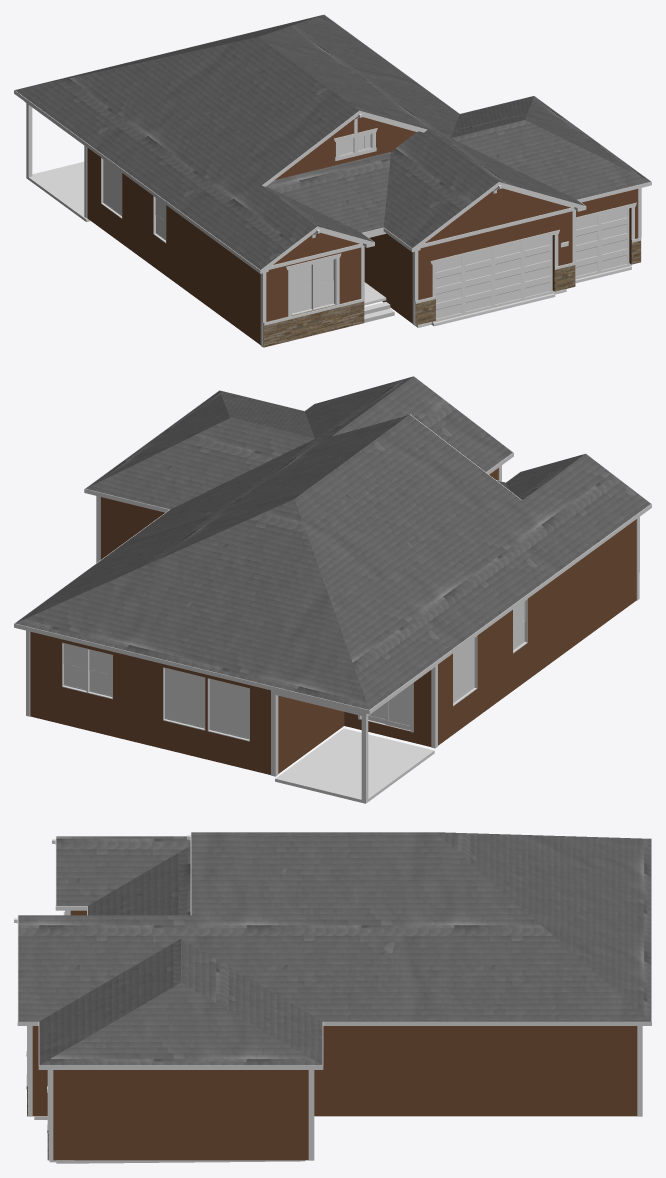
The model's file is 140-1584-dm-craftsman.glb.
3 views of the same model, one above another, from view 1: azimuth 30°, elevation 25°; view 2: azimuth 150°, elevation 25°; view 3: azimuth 270°, elevation 25° (orthographic). The views are drawn at different scales.
Visible parts, largest first — view 1: Basic Roof Wood Rafter 4" - Asphalt Shingle - Insulated_13c9, Basic Roof Wood Rafter 4" - Asphalt Shingle - Insulated_fc55, Basic Roof Wood Rafter 4" - Asphalt Shingle - Insulated_f22a, Basic Wall BSB Exterior - Stud_5.5" - Sheathing_0.5" - _ee27, Craftsman - BSB Exterior - Overhead Garage Door - Clopa_c83a, Basic Roof Wood Rafter 4" - Asphalt Shingle - Insulated_73b4, Basic Roof Wood Rafter 4" - Asphalt Shingle - Insulated_5227, Fascia Fascia-Flat 1x6 w/12" Soffit Bd [4406295], Basic Wall BSB Exterior - Stud_3.5" - Sheathing_0.5" - _6c46, Craftsman - BSB Exterior - Overhead Garage Door - Clopa_799e, Basic Wall BSB Exterior - Stud_5.5" - Sheathing_0.5" - _47e0, Basic Wall BSB Exterior - Stud_3.5" - Sheathing_0.5" - _949f (+22 smaller); view 2: Basic Roof Wood Rafter 4" - Asphalt Shingle - Insulated_13c9, Basic Wall BSB Exterior - Stud_5.5" - Sheathing_0.5" - _ff8a, Basic Roof Wood Rafter 4" - Asphalt Shingle - Insulated_fc55, Basic Wall BSB Exterior - Stud_5.5" - Sheathing_0.5" - _ee27, Basic Roof Wood Rafter 4" - Asphalt Shingle - Insulated_73b4, Basic Roof Wood Rafter 4" - Asphalt Shingle - Insulated_f22a, Floor BSB Concrete Slab - 4" - Slope Option [4252595], Fascia Fascia-Flat 1x6 w/12" Soffit Bd [4406295], Basic Wall BSB Exterior - Stud_5.5" - Sheathing_0.5" - _47e0, Basic Wall BSB Exterior - Stud_5.5" - Sheathing_0.5" - _cf53, Trim - Corner Boards Trim - Corner Boards [4400916], BSB Fixed 5060 FX w/ Sill [4252614] (+10 smaller); view 3: Basic Roof Wood Rafter 4" - Asphalt Shingle - Insulated_13c9, Basic Wall BSB Exterior - Stud_5.5" - Sheathing_0.5" - _f144, Basic Roof Wood Rafter 4" - Asphalt Shingle - Insulated_fc55, Basic Wall BSB Exterior - Stud_3.5" - Sheathing_0.5" - _c112, Basic Roof Wood Rafter 4" - Asphalt Shingle - Insulated_f22a, Basic Wall BSB Exterior - Stud_3.5" - Sheathing_0.5" - _85d5, Basic Roof Wood Rafter 4" - Asphalt Shingle - Insulated_73b4, Basic Roof Wood Rafter 4" - Asphalt Shingle - Insulated_5227, Fascia Fascia-Flat 1x6 w/12" Soffit Bd [4406295], Trim - Corner Boards Trim - Corner Boards [4400916], Basic Wall BSB Exterior - Stud_3.5" - Sheathing_0.5" - _587b, Floor BSB Concrete Slab - 4" - Slope Option [4259965].
Part boxes in pixels (x1,y1,x2,y2): Basic Roof Wood Rafter 4" - Asphalt Shingle - Insulated_13c9: (15,15,459,226); Basic Roof Wood Rafter 4" - Asphalt Shingle - Insulated_fc55: (451,96,650,199); Basic Roof Wood Rafter 4" - Asphalt Shingle - Insulated_f22a: (383,127,584,248); Basic Wall BSB Exterior - Stud_5.5" - Sheathing_0.5" - _ee27: (87,147,206,305); Craftsman - BSB Exterior - Overhead Garage Door - Clopa_c83a: (432,235,553,322); Basic Roof Wood Rafter 4" - Asphalt Shingle - Insulated_73b4: (201,183,373,269); Basic Roof Wood Rafter 4" - Asphalt Shingle - Insulated_5227: (266,152,390,232); Fascia Fascia-Flat 1x6 w/12" Soffit Bd [4406295]: (14,14,651,273); Basic Wall BSB Exterior - Stud_3.5" - Sheathing_0.5" - _6c46: (418,211,572,299); Craftsman - BSB Exterior - Overhead Garage Door - Clopa_799e: (575,208,630,279); Basic Wall BSB Exterior - Stud_5.5" - Sheathing_0.5" - _47e0: (206,235,249,336); Basic Wall BSB Exterior - Stud_3.5" - Sheathing_0.5" - _949f: (364,233,412,323); Basic Roof Wood Rafter 4" - Asphalt Shingle - Insulated_13c9: (15,414,582,709); Basic Wall BSB Exterior - Stud_5.5" - Sheathing_0.5" - _ff8a: (30,632,270,774); Basic Roof Wood Rafter 4" - Asphalt Shingle - Insulated_fc55: (85,390,314,509); Basic Wall BSB Exterior - Stud_5.5" - Sheathing_0.5" - _ee27: (430,565,573,745); Basic Roof Wood Rafter 4" - Asphalt Shingle - Insulated_73b4: (506,454,650,553); Basic Roof Wood Rafter 4" - Asphalt Shingle - Insulated_f22a: (296,376,512,471); Floor BSB Concrete Slab - 4" - Slope Option [4252595]: (275,728,434,803); Fascia Fascia-Flat 1x6 w/12" Soffit Bd [4406295]: (14,376,651,714); Basic Wall BSB Exterior - Stud_5.5" - Sheathing_0.5" - _47e0: (574,529,623,645); Basic Wall BSB Exterior - Stud_5.5" - Sheathing_0.5" - _cf53: (270,690,344,773); Trim - Corner Boards Trim - Corner Boards [4400916]: (26,465,639,776); BSB Fixed 5060 FX w/ Sill [4252614]: (163,667,205,730); Basic Roof Wood Rafter 4" - Asphalt Shingle - Insulated_13c9: (191,832,651,1021); Basic Wall BSB Exterior - Stud_5.5" - Sheathing_0.5" - _f144: (314,1026,637,1116); Basic Roof Wood Rafter 4" - Asphalt Shingle - Insulated_fc55: (39,939,322,1065); Basic Wall BSB Exterior - Stud_3.5" - Sheathing_0.5" - _c112: (158,1070,308,1160); Basic Roof Wood Rafter 4" - Asphalt Shingle - Insulated_f22a: (18,915,200,1021); Basic Wall BSB Exterior - Stud_3.5" - Sheathing_0.5" - _85d5: (53,1070,158,1160); Basic Roof Wood Rafter 4" - Asphalt Shingle - Insulated_73b4: (56,836,190,905); Basic Roof Wood Rafter 4" - Asphalt Shingle - Insulated_5227: (87,846,190,915); Fascia Fascia-Flat 1x6 w/12" Soffit Bd [4406295]: (17,832,651,1069); Trim - Corner Boards Trim - Corner Boards [4400916]: (27,910,642,1160); Basic Wall BSB Exterior - Stud_3.5" - Sheathing_0.5" - _587b: (32,1026,47,1116); Floor BSB Concrete Slab - 4" - Slope Option [4259965]: (34,1116,305,1163).
Bounding box in the file's own units: 15.79 × 6.61 × 18.74.
Materials: 3 (2 with a texture image).
